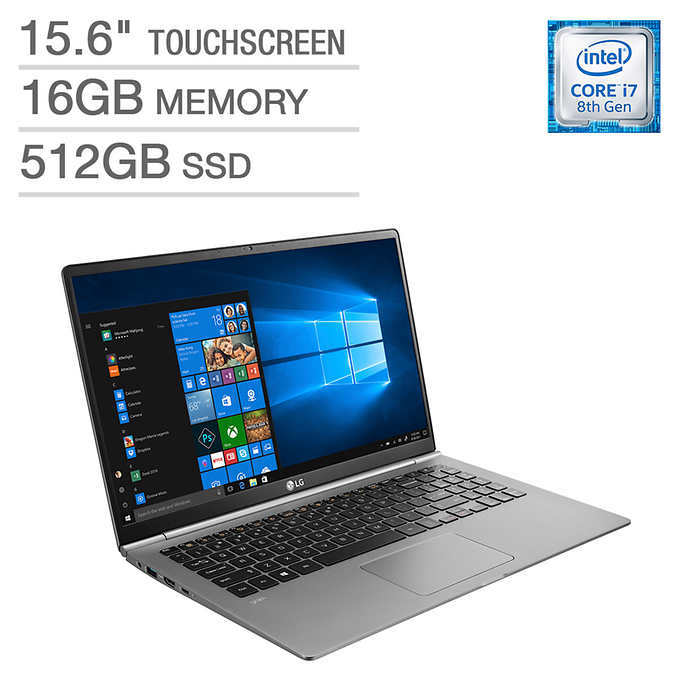Laptop: (54, 224, 640, 667)
